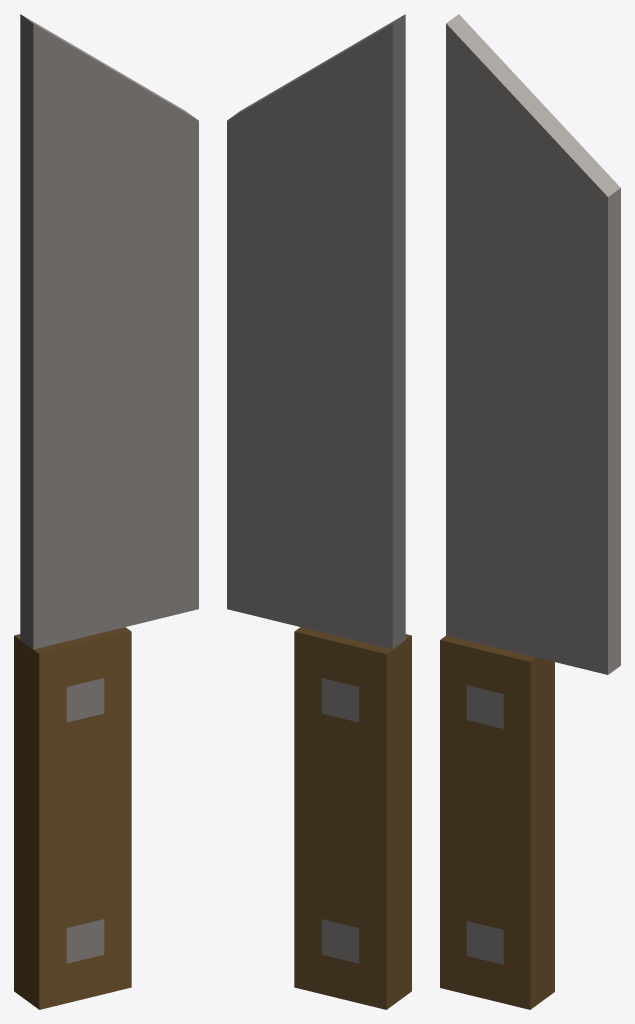
Rendered from SM_Prop_Knife_01.glb.
The picture shows the model from 3 angles, left to right: view 1: azimuth 30°, elevation 25°; view 2: azimuth 150°, elevation 25°; view 3: azimuth 330°, elevation 25°; orthographic projection. The views are drawn at different scales.
Visible parts, largest first — view 1: SM_Prop_Knife_01; view 2: SM_Prop_Knife_01; view 3: SM_Prop_Knife_01.
Part boxes in pixels (bbox=[...]): SM_Prop_Knife_01: bbox=[14, 14, 198, 1009]; SM_Prop_Knife_01: bbox=[227, 14, 411, 1009]; SM_Prop_Knife_01: bbox=[440, 14, 620, 1009].
Size of the model in its own units: 0.00217 by 0.0123 by 0.000577.
Materials: 1 (1 with a texture image).
